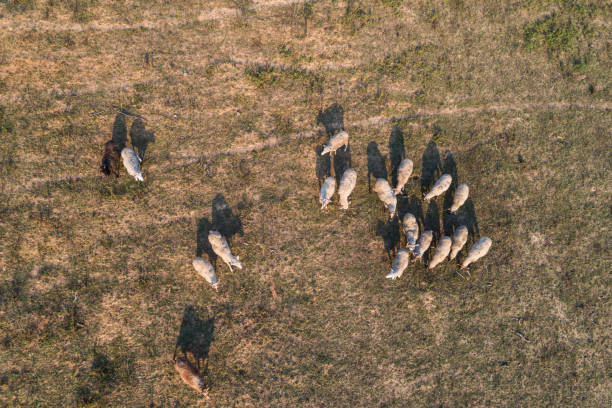sheep: (167, 355, 215, 401), (202, 226, 246, 272), (365, 180, 402, 219), (338, 168, 365, 215), (200, 255, 229, 296), (121, 141, 147, 184), (98, 141, 126, 179), (384, 249, 413, 284), (427, 173, 456, 208), (464, 236, 496, 267), (321, 126, 352, 158), (427, 236, 454, 271), (446, 181, 474, 214), (316, 173, 338, 215), (450, 224, 470, 264), (393, 158, 415, 193), (400, 210, 421, 246), (414, 227, 433, 264)
